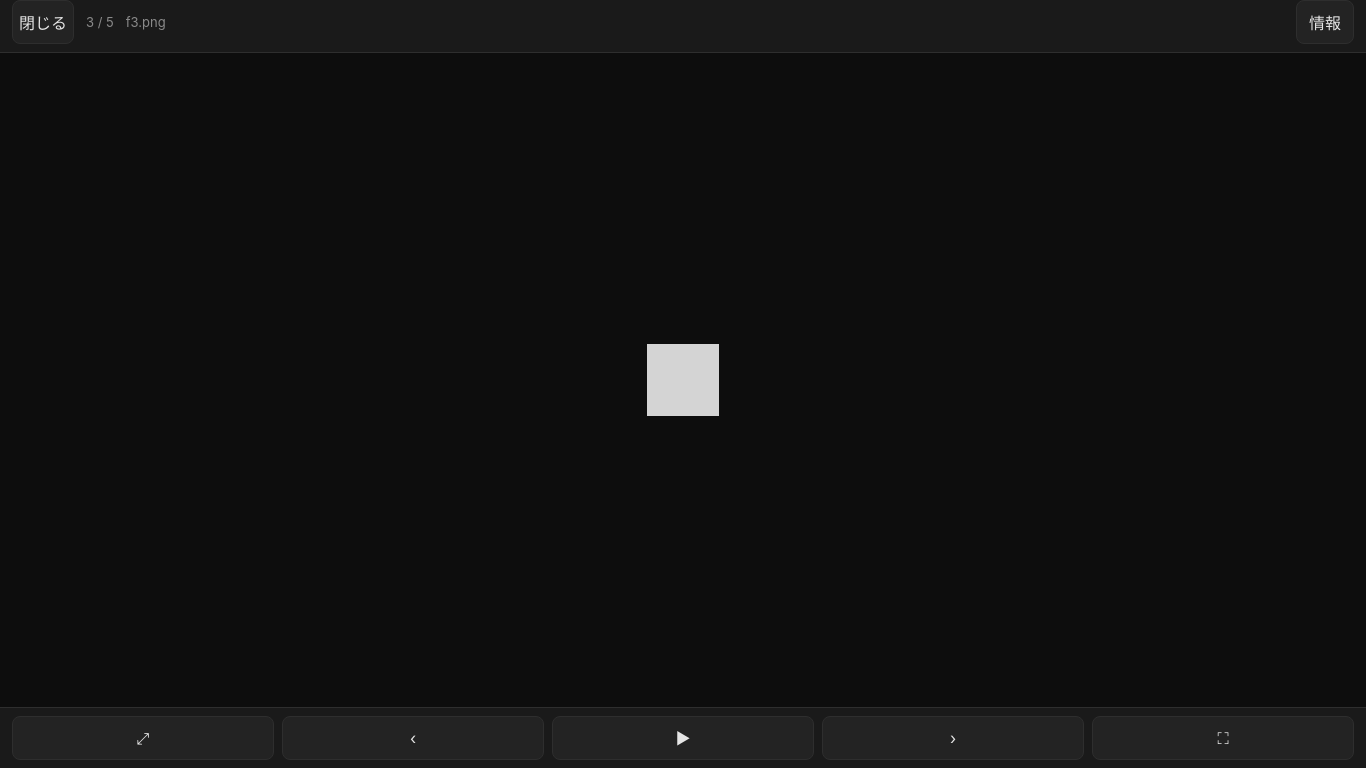
Test: Viewer のキーボード操作 › スライドショー設定を開いた状態で Escape を押すと、シートだけが閉じてビューアは開いたままになる
Click the button named "スライドショー": coordinates (683, 738) [552,716,814,760]
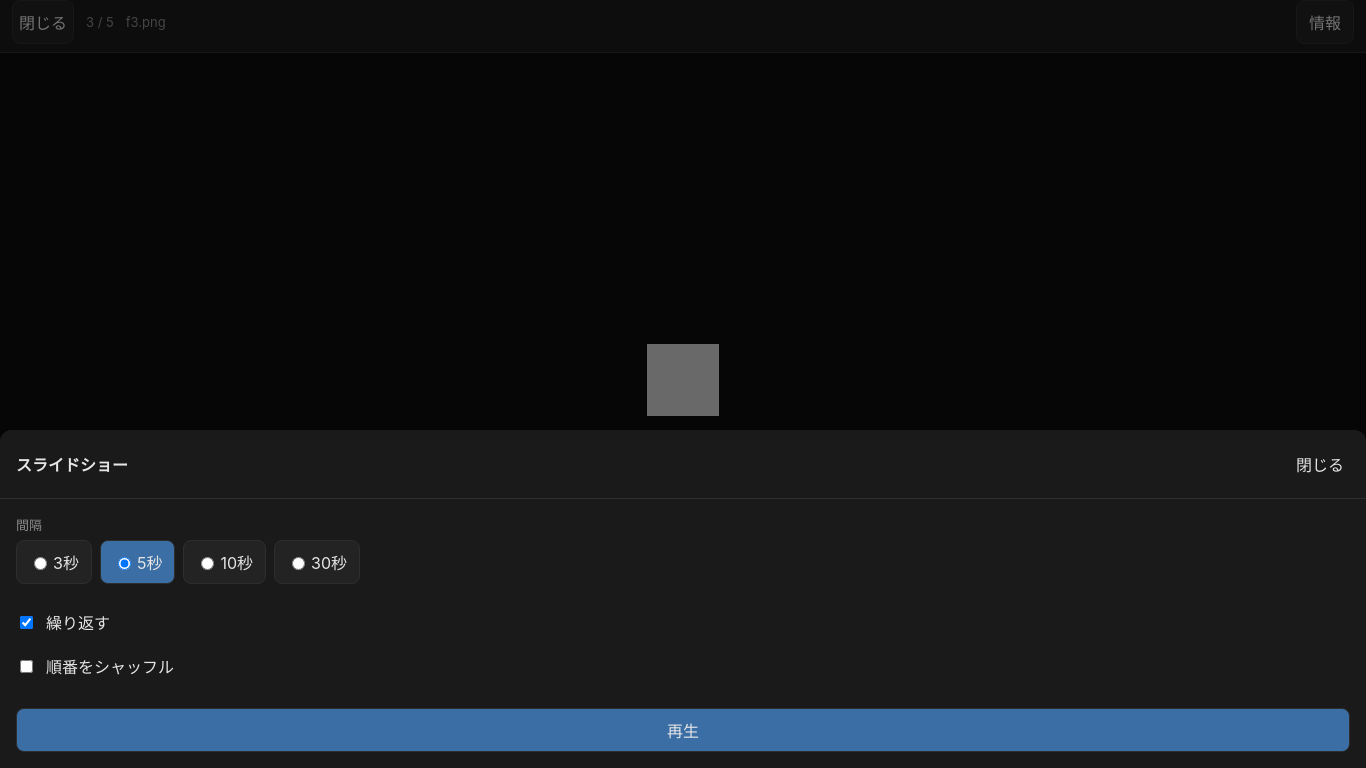
Expected: the dialog "スライドショー" is shown, [0,430,1365,767]
Press Escape
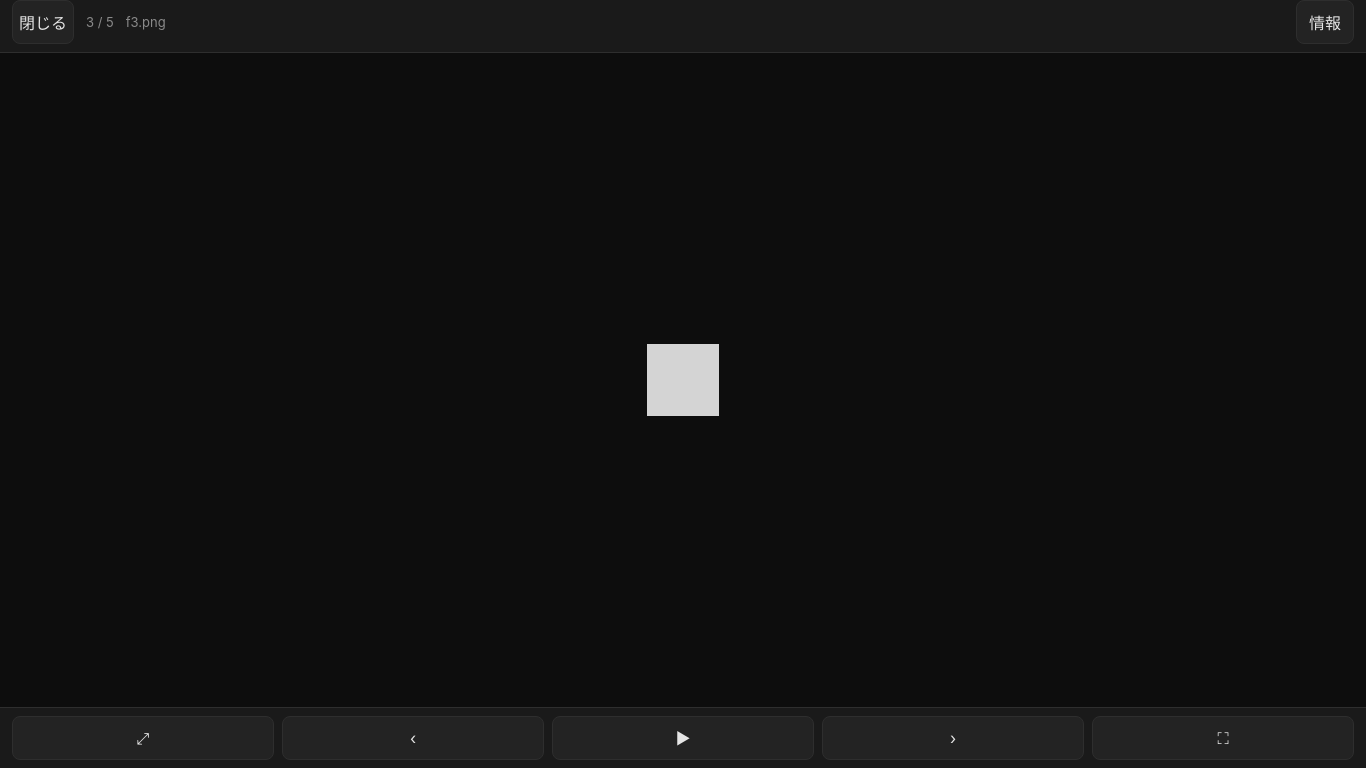
Expected: the text "スライドショー" is gone
